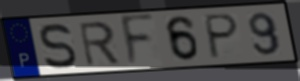6: (164, 15, 201, 63)
9: (247, 10, 283, 57)
F: (118, 12, 157, 70)
P: (203, 12, 241, 61)
R: (77, 20, 123, 69)
S: (38, 21, 79, 71)
